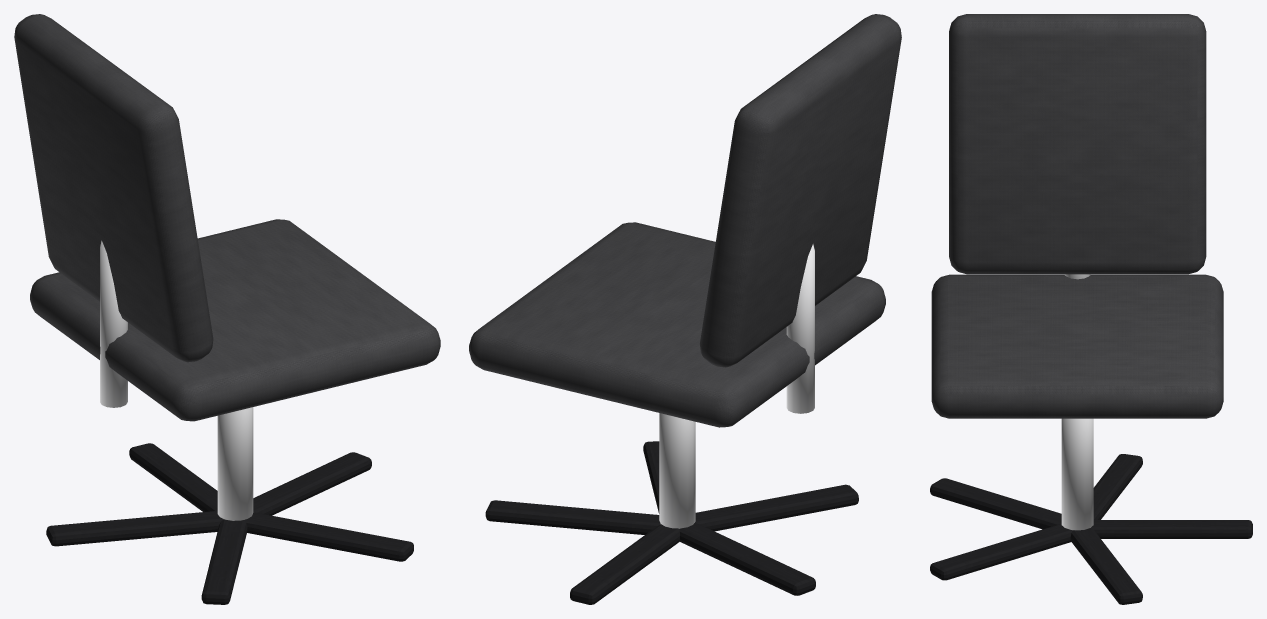
File: bed2_chair.glb
3 renders of one model, left to right at view 1: azimuth 30°, elevation 25°; view 2: azimuth 150°, elevation 25°; view 3: azimuth 270°, elevation 25°, orthographic. The views are drawn at different scales.
Parts seen in each view (by area): view 1: bed2_chair; view 2: bed2_chair; view 3: bed2_chair.
Boxes of the visible parts, x1,y1,x2,y2 form: bed2_chair: [14, 14, 440, 604]; bed2_chair: [469, 14, 901, 604]; bed2_chair: [930, 14, 1252, 604].
Size of the model in its own units: 0.5796 by 0.864 by 0.5527.
Materials: 3 (2 with a texture image).
